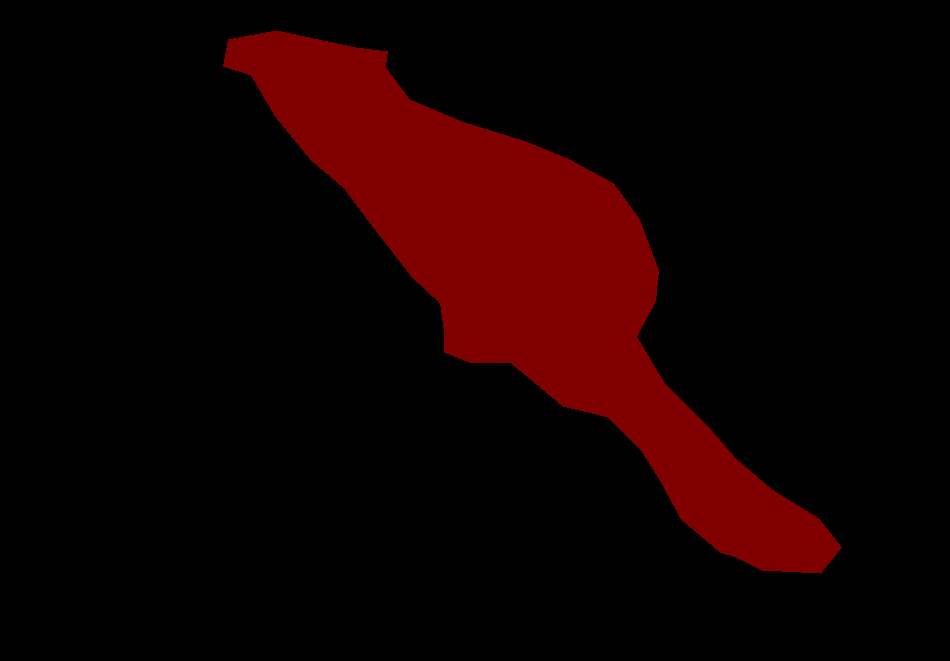fire: (223, 30, 841, 573)
